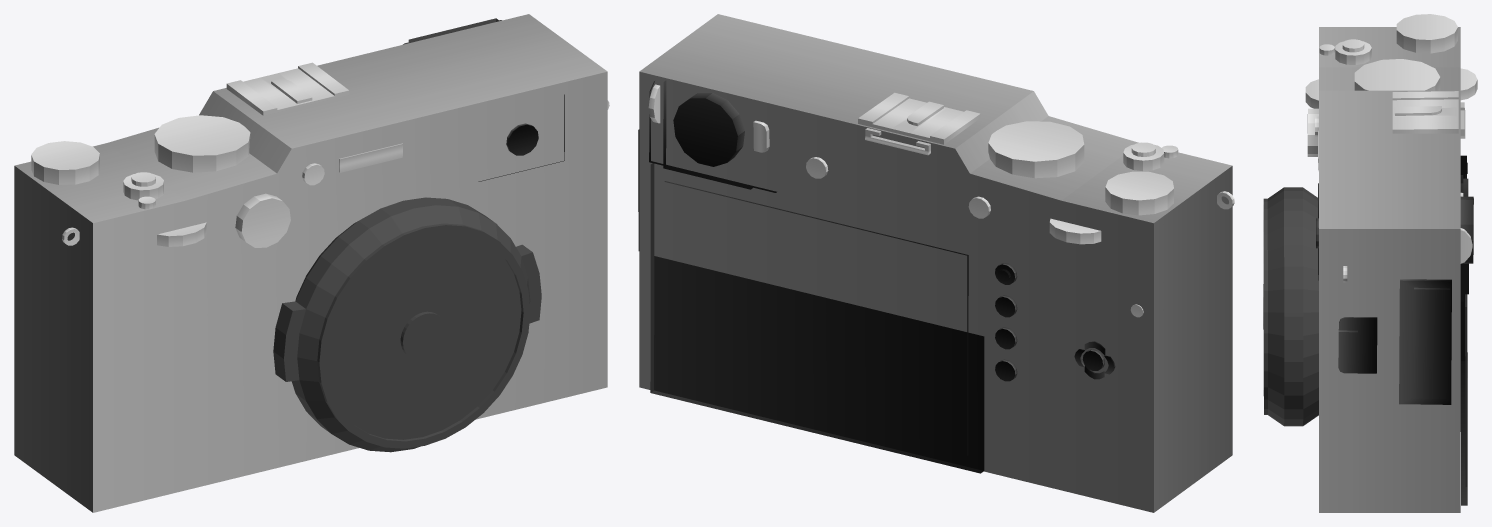
File: SM_Int_Camera.fbx
The picture shows the model from 3 angles, left to right: view 1: azimuth 30°, elevation 25°; view 2: azimuth 150°, elevation 25°; view 3: azimuth 270°, elevation 25°; orthographic projection. The views are drawn at different scales.
Visible parts, largest first — view 1: SM_Int_Camera; view 2: SM_Int_Camera; view 3: SM_Int_Camera.
Boxes of the visible parts, x1=… form: SM_Int_Camera: x1=14, y1=14, x2=609, y2=512; SM_Int_Camera: x1=638, y1=14, x2=1234, y2=512; SM_Int_Camera: x1=1263, y1=14, x2=1477, y2=512.
Bounding box in the file's own units: 114 × 64.21 × 43.08.
